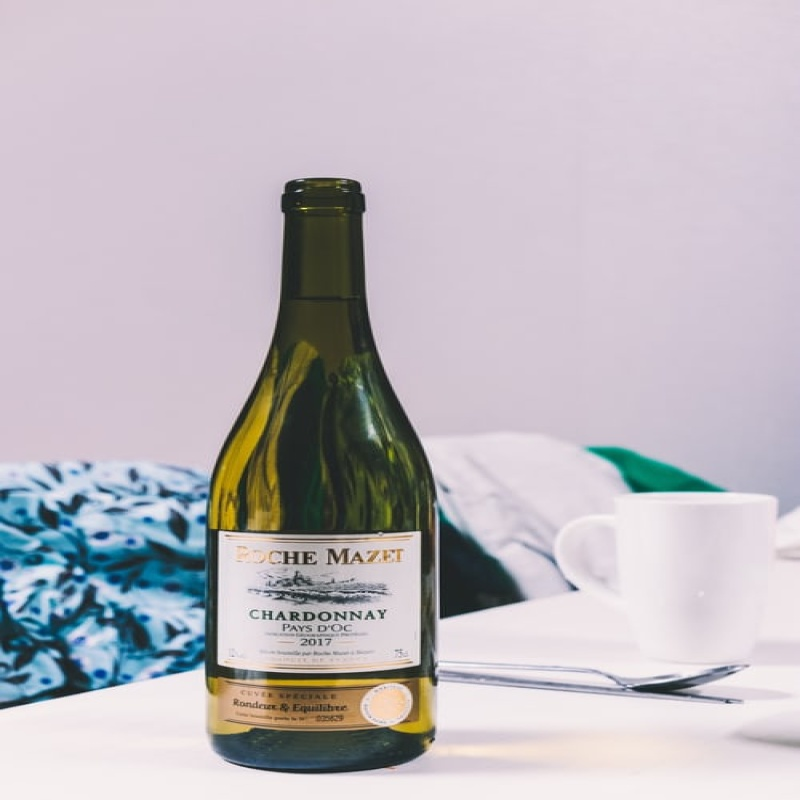wine: (204, 175, 439, 770)
